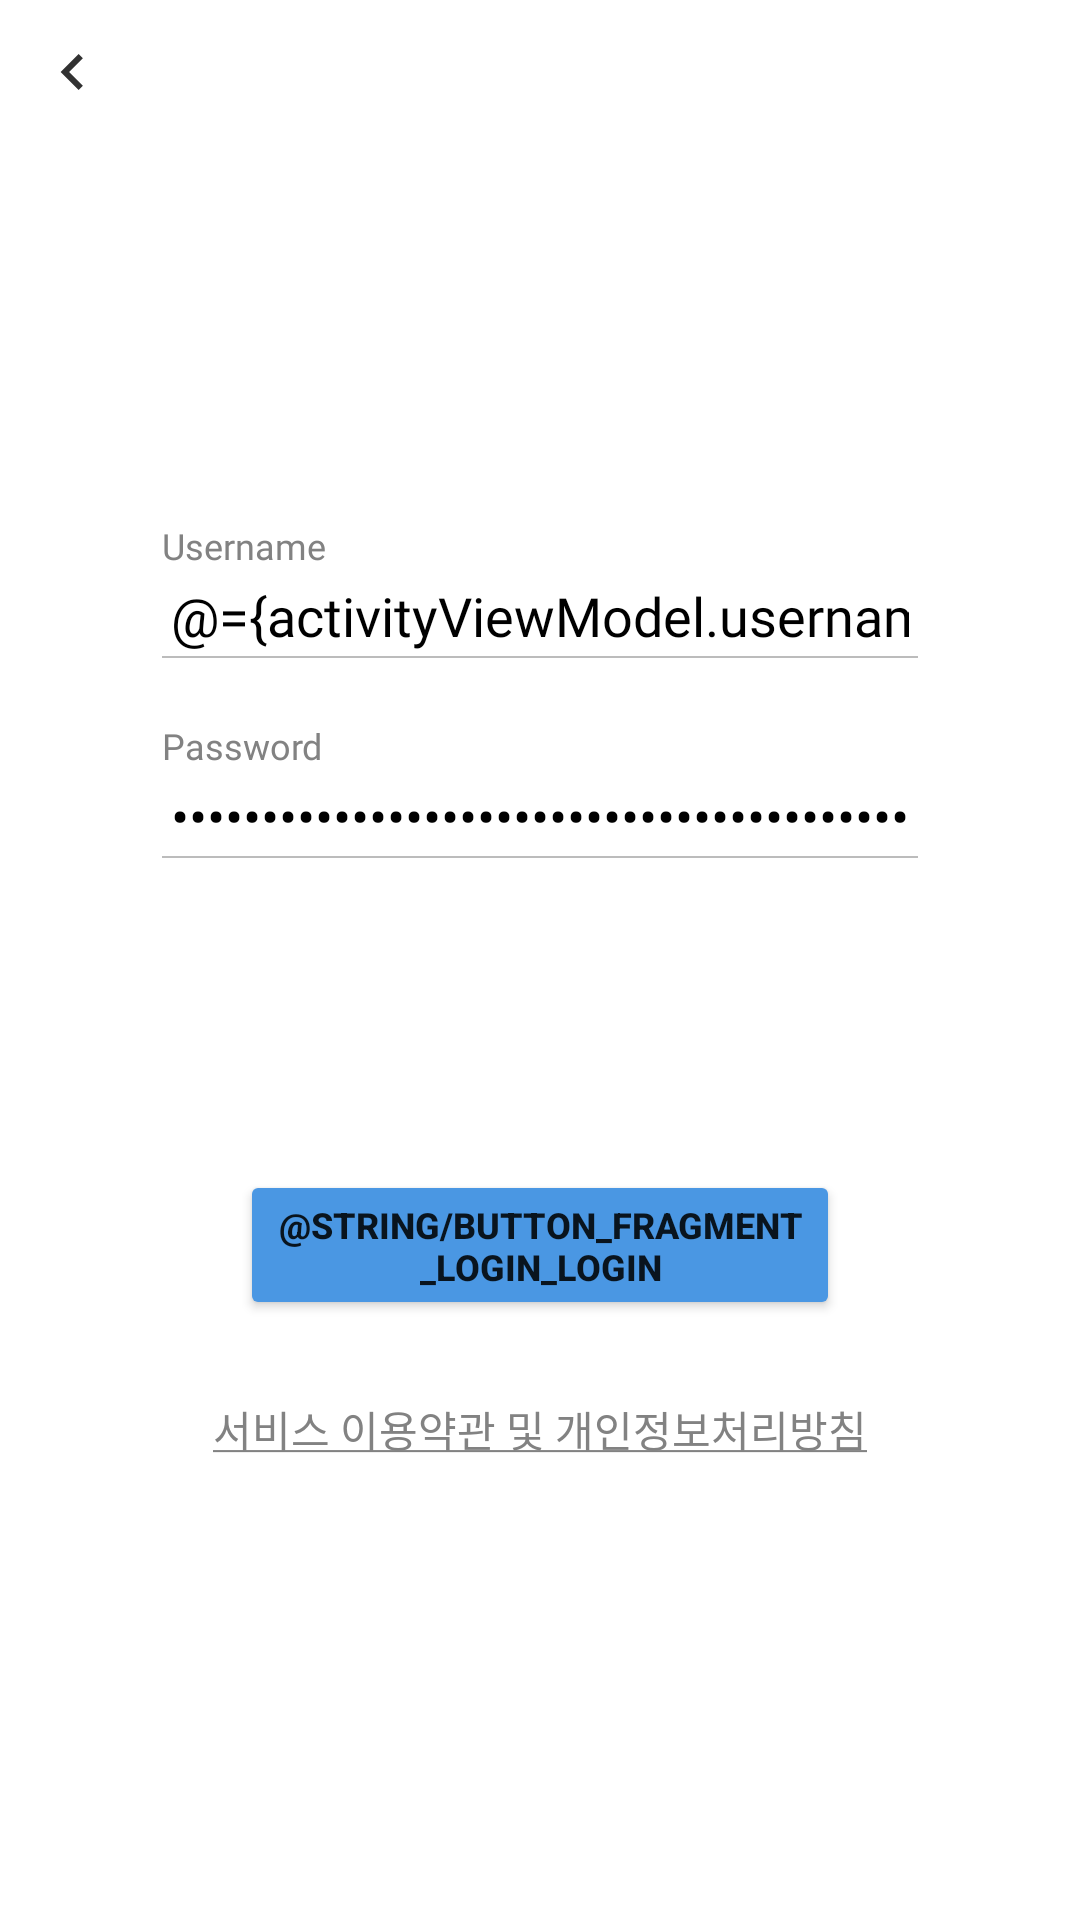

Icon bounding boxes for this 1080w x 1920h phone screenshot, format [left=x1, top=y1, right=x2, bottom=y2]:
navigate before: [left=61, top=54, right=83, bottom=90]
